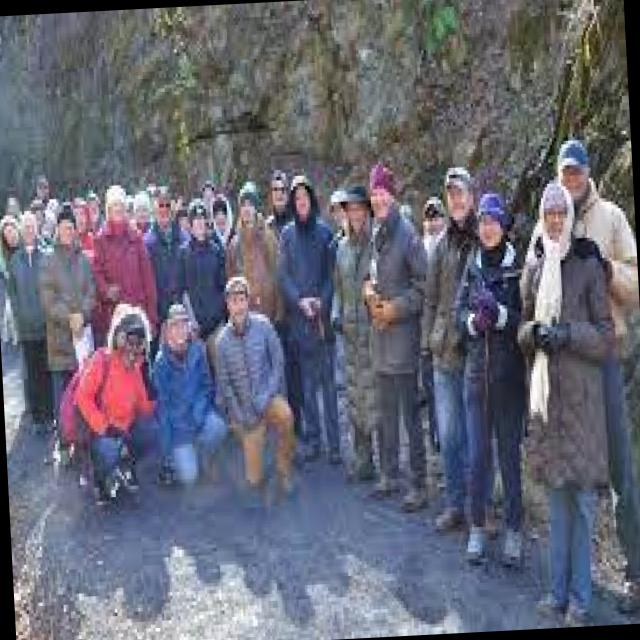Jacket: (511, 242, 631, 486), (540, 191, 640, 359), (455, 238, 529, 418), (358, 214, 431, 390), (416, 218, 489, 381), (274, 217, 344, 375), (332, 224, 384, 428), (32, 242, 107, 383), (89, 218, 164, 358), (76, 349, 161, 468), (164, 226, 244, 348), (213, 316, 290, 436), (148, 342, 224, 452), (224, 230, 284, 348), (141, 213, 191, 337)
